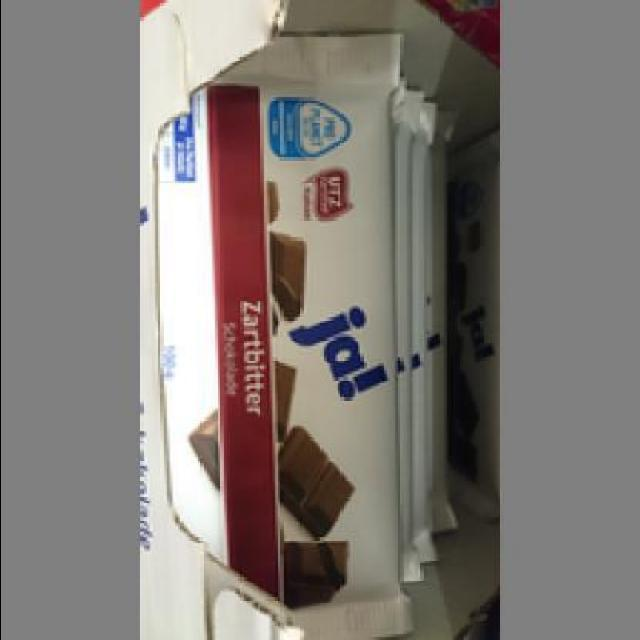Chocolate bar: (169, 26, 406, 634)
